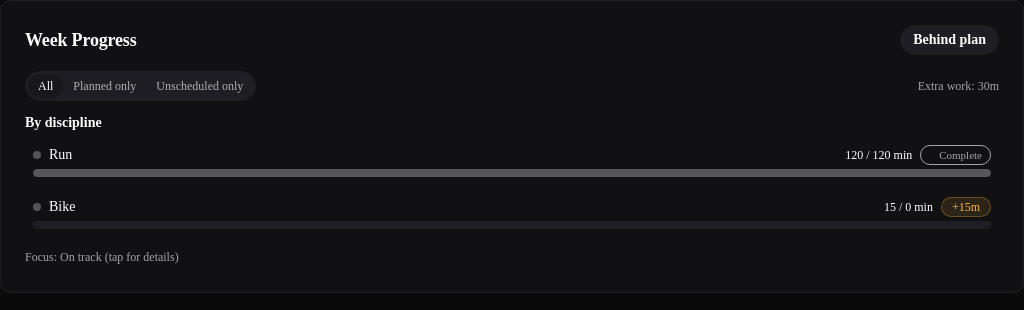
Scenario: WeekProgressCard › filters planned vs unscheduled work
Expected: the text "Extra work: 30m" is shown, [918,78,999,94]
Expected: the text "120 / 120 min" is shown, [845,148,912,162]
Click the button "Planned only". click: (105, 86)
box: [63,74,146,98]
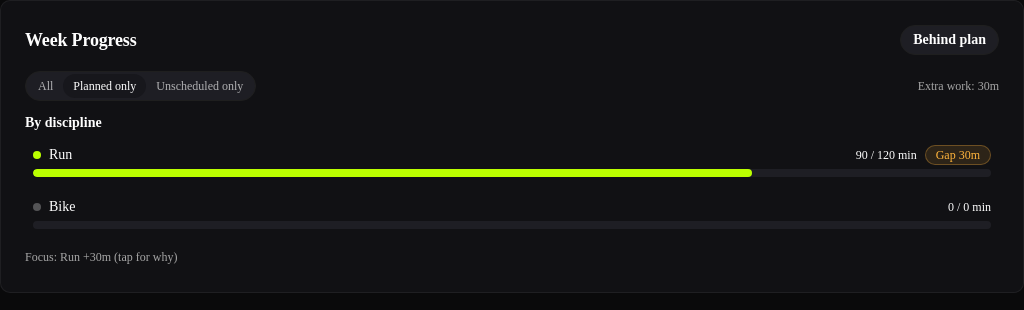
Result: the text "90 / 120 min" is shown at [856,148,917,162]
Click the button "Unscheduled only". click: (200, 86)
box: [146,74,253,98]
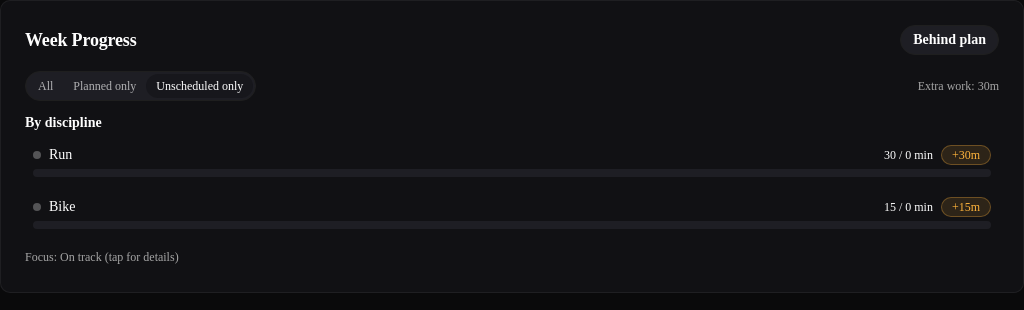
Result: the text "30 / 0 min" is shown at [884,148,933,162]
Result: the text "15 / 0 min" is shown at [884,200,933,214]
